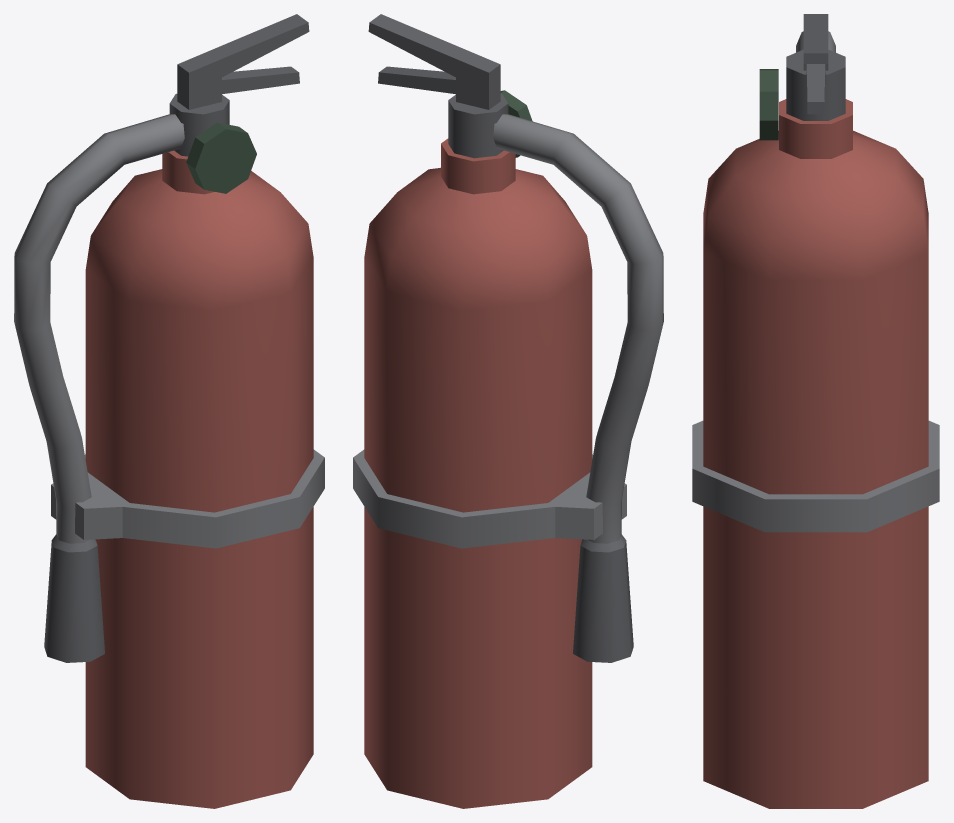
The model's file is fire-hydrant.fbx.
3 renders of one model, left to right at view 1: azimuth 30°, elevation 25°; view 2: azimuth 150°, elevation 25°; view 3: azimuth 270°, elevation 25°, orthographic. The views are drawn at different scales.
Visible parts, largest first — view 1: fire_extinguisher; view 2: fire_extinguisher; view 3: fire_extinguisher.
Boxes of the visible parts, x1=… form: fire_extinguisher: x1=14, y1=14, x2=324, y2=808; fire_extinguisher: x1=353, y1=14, x2=663, y2=808; fire_extinguisher: x1=692, y1=14, x2=939, y2=808.
Size of the model in its own units: 33.53 by 79.97 by 23.57.
